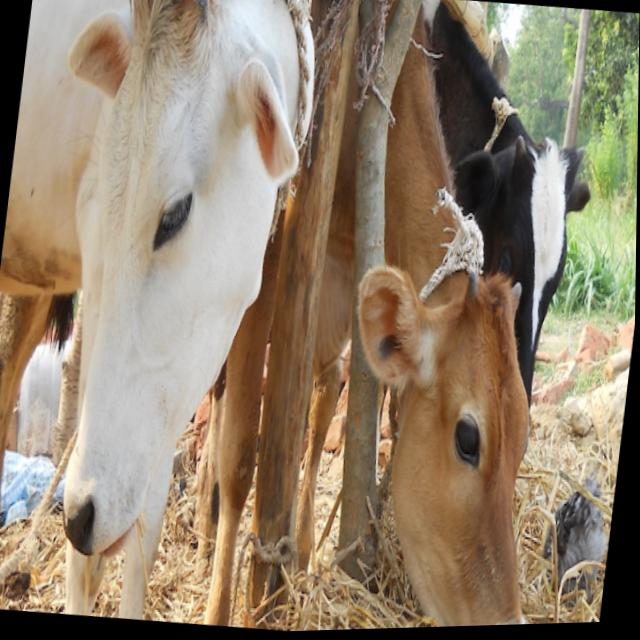cowFace: (320, 248, 573, 632)
